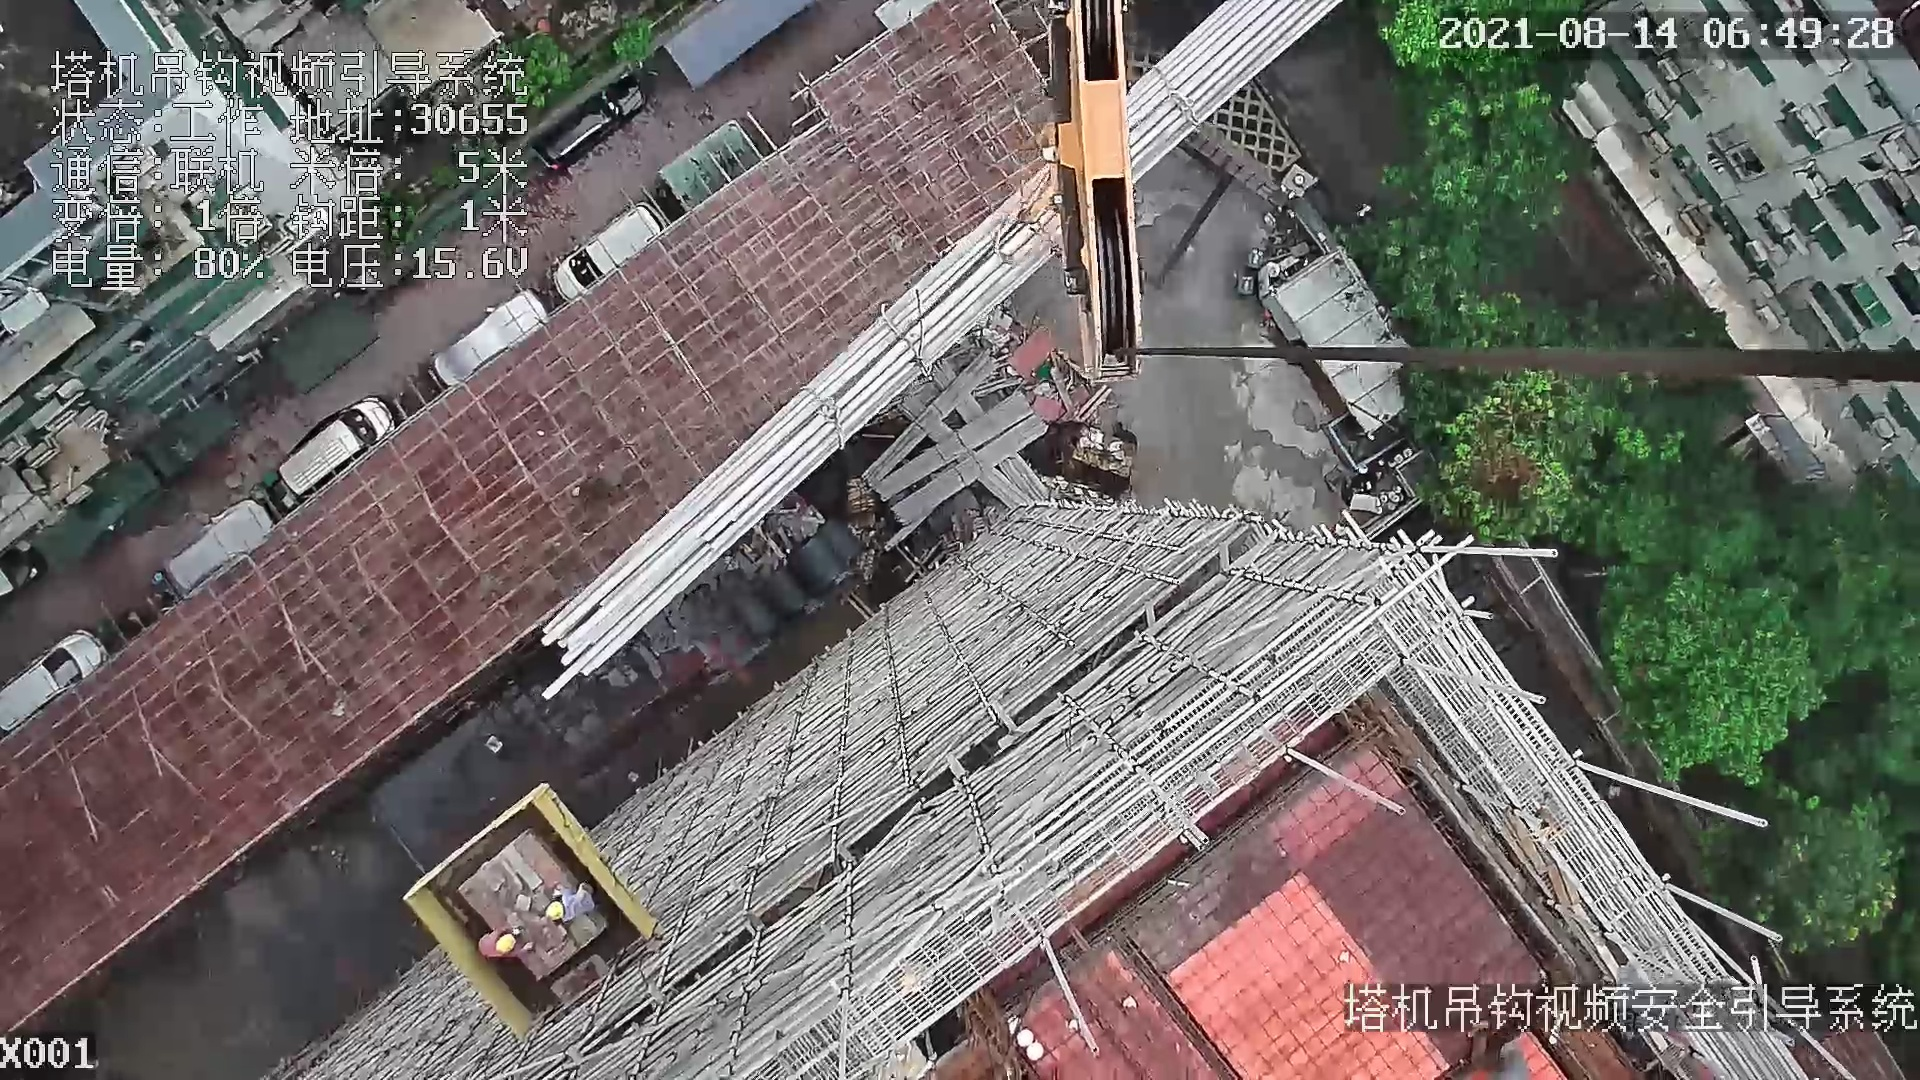helmet: (492, 932, 519, 956), (544, 900, 566, 920)
hook: (1009, 1, 1150, 386)
person: (473, 922, 544, 960), (549, 883, 595, 940)
